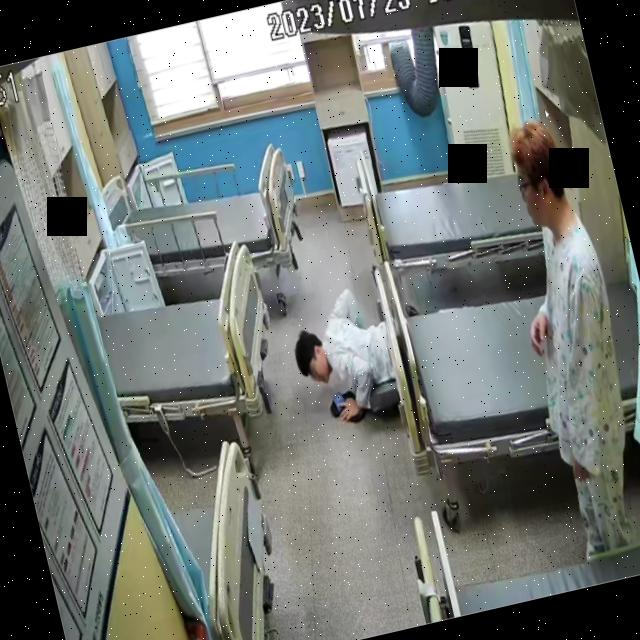bed: (365, 206, 640, 480), (348, 102, 564, 296), (91, 240, 288, 440), (116, 146, 306, 296)
fall: (282, 278, 418, 431)
patient: (483, 114, 640, 560), (281, 276, 423, 432)
stand: (482, 112, 640, 559)
